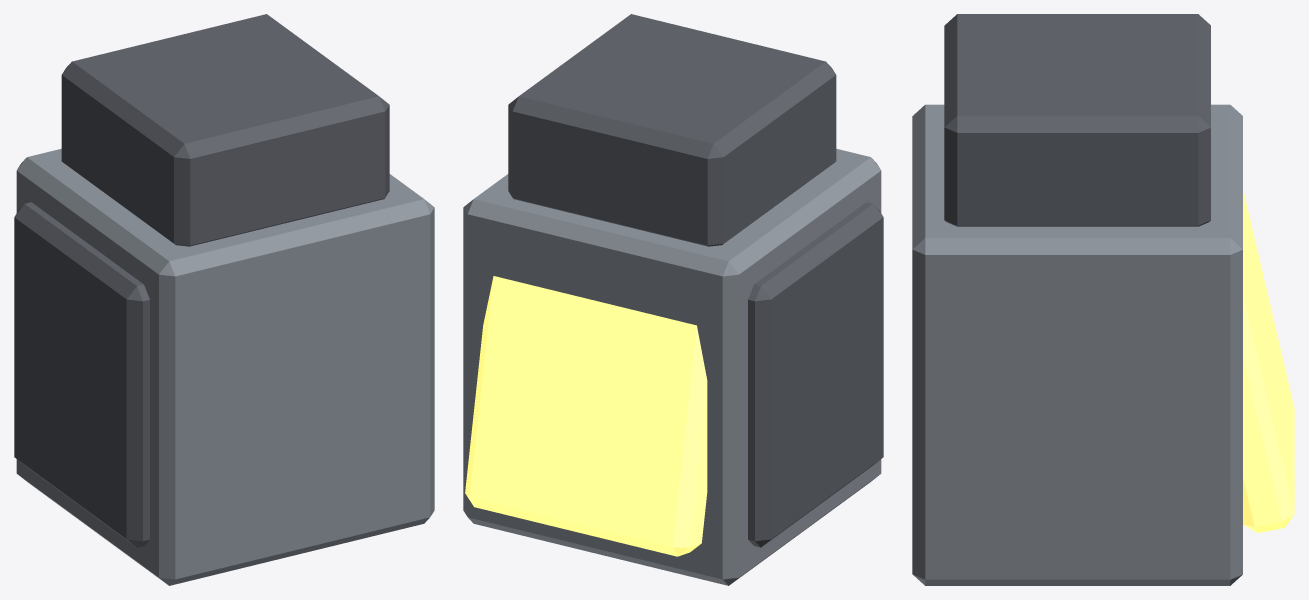
File: tankhead_leg_left_upper.glb
3 renders of one model, left to right at view 1: azimuth 30°, elevation 25°; view 2: azimuth 150°, elevation 25°; view 3: azimuth 270°, elevation 25°, orthographic. The views are drawn at different scales.
Visible parts, largest first — view 1: tankhead_leg_left_upper; view 2: tankhead_leg_left_upper; view 3: tankhead_leg_left_upper.
Boxes of the visible parts, x1,y1,x2,y2 form: tankhead_leg_left_upper: [14, 14, 434, 585]; tankhead_leg_left_upper: [463, 14, 883, 585]; tankhead_leg_left_upper: [912, 14, 1294, 585].
Size of the model in its own units: 0.68 by 0.94 by 0.7163.
